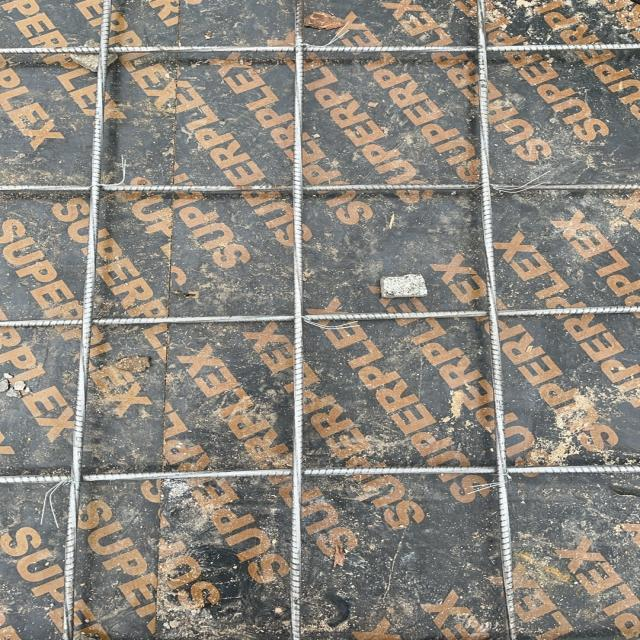ribbed bar: (62, 0, 114, 639), (472, 0, 521, 639), (0, 305, 639, 328), (0, 463, 639, 483), (287, 0, 306, 639), (0, 42, 639, 56), (0, 181, 639, 192)
